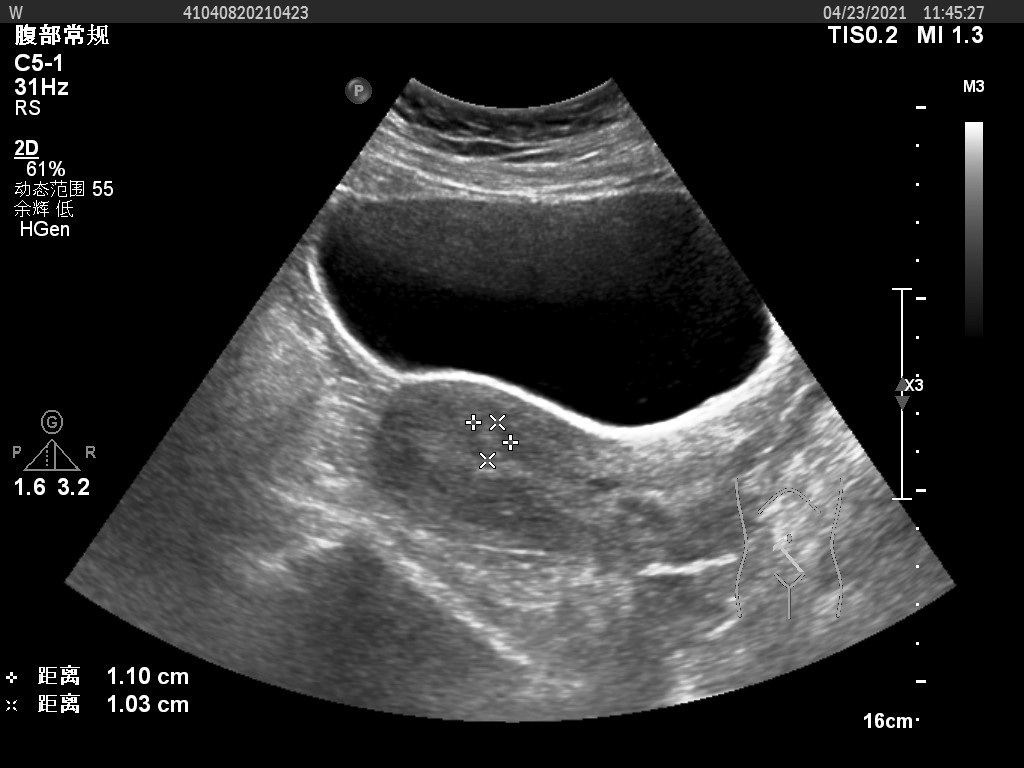肌瘤: (474, 422, 510, 461)
